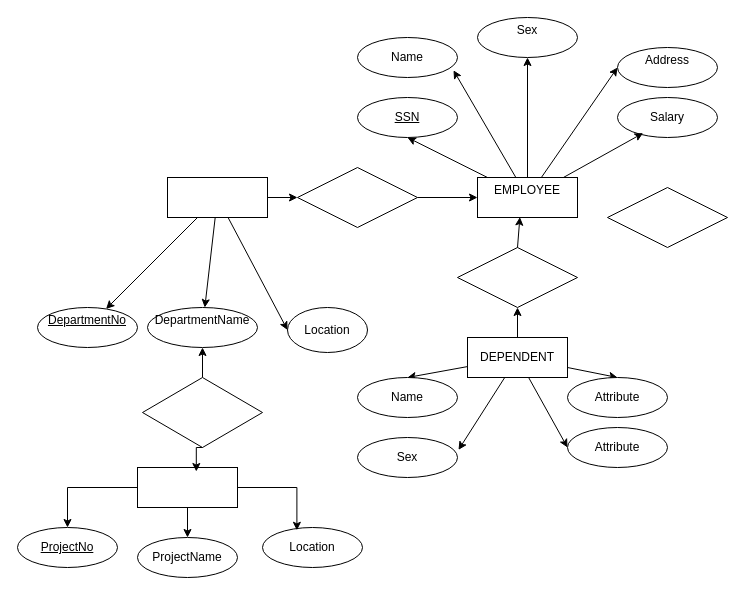
Image size: 745x595. Some labels were removed from this diagram. Here are the shapes that lost their labels. From the top down, the centre of each, then its label:
(x=217, y=197): DEPARTMENT
(x=357, y=197): WORKS FOR
(x=667, y=217): Relationship
(x=517, y=277): HAS
(x=202, y=412): CONTROLS
(x=187, y=487): PROJECT
